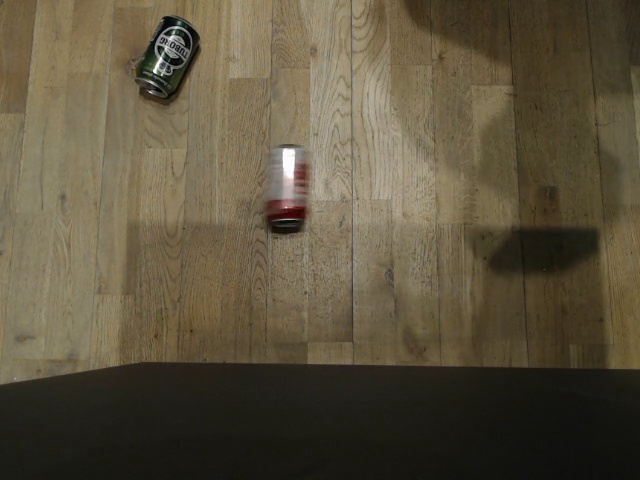beer: (133, 11, 201, 99)
cola: (265, 142, 310, 232)
